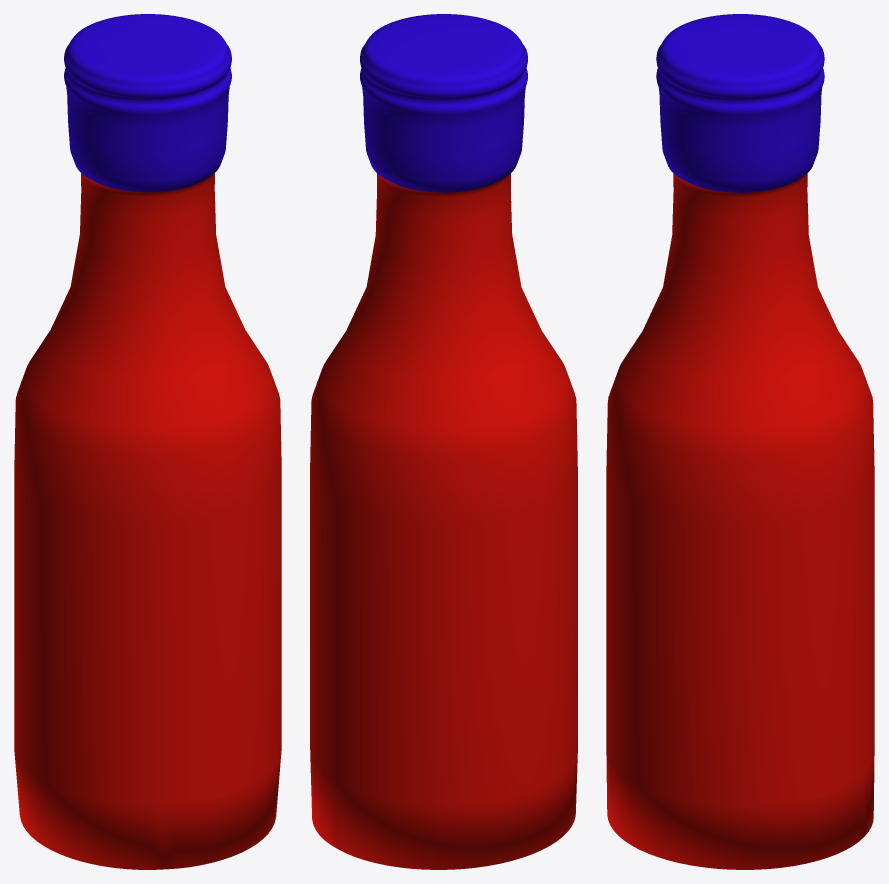
File: NCR Bottle 1.fbx
The picture shows the model from 3 angles, left to right: view 1: azimuth 30°, elevation 25°; view 2: azimuth 150°, elevation 25°; view 3: azimuth 270°, elevation 25°; orthographic projection.
Parts seen in each view (by area): view 1: Alcohol Bottle 1; view 2: Alcohol Bottle 1; view 3: Alcohol Bottle 1.
Boxes of the visible parts, bbox=[...] form: Alcohol Bottle 1: bbox=[14, 14, 281, 869]; Alcohol Bottle 1: bbox=[310, 14, 577, 869]; Alcohol Bottle 1: bbox=[606, 14, 874, 869].
Size of the model in its own units: 14.9 by 47.2 by 14.9.
